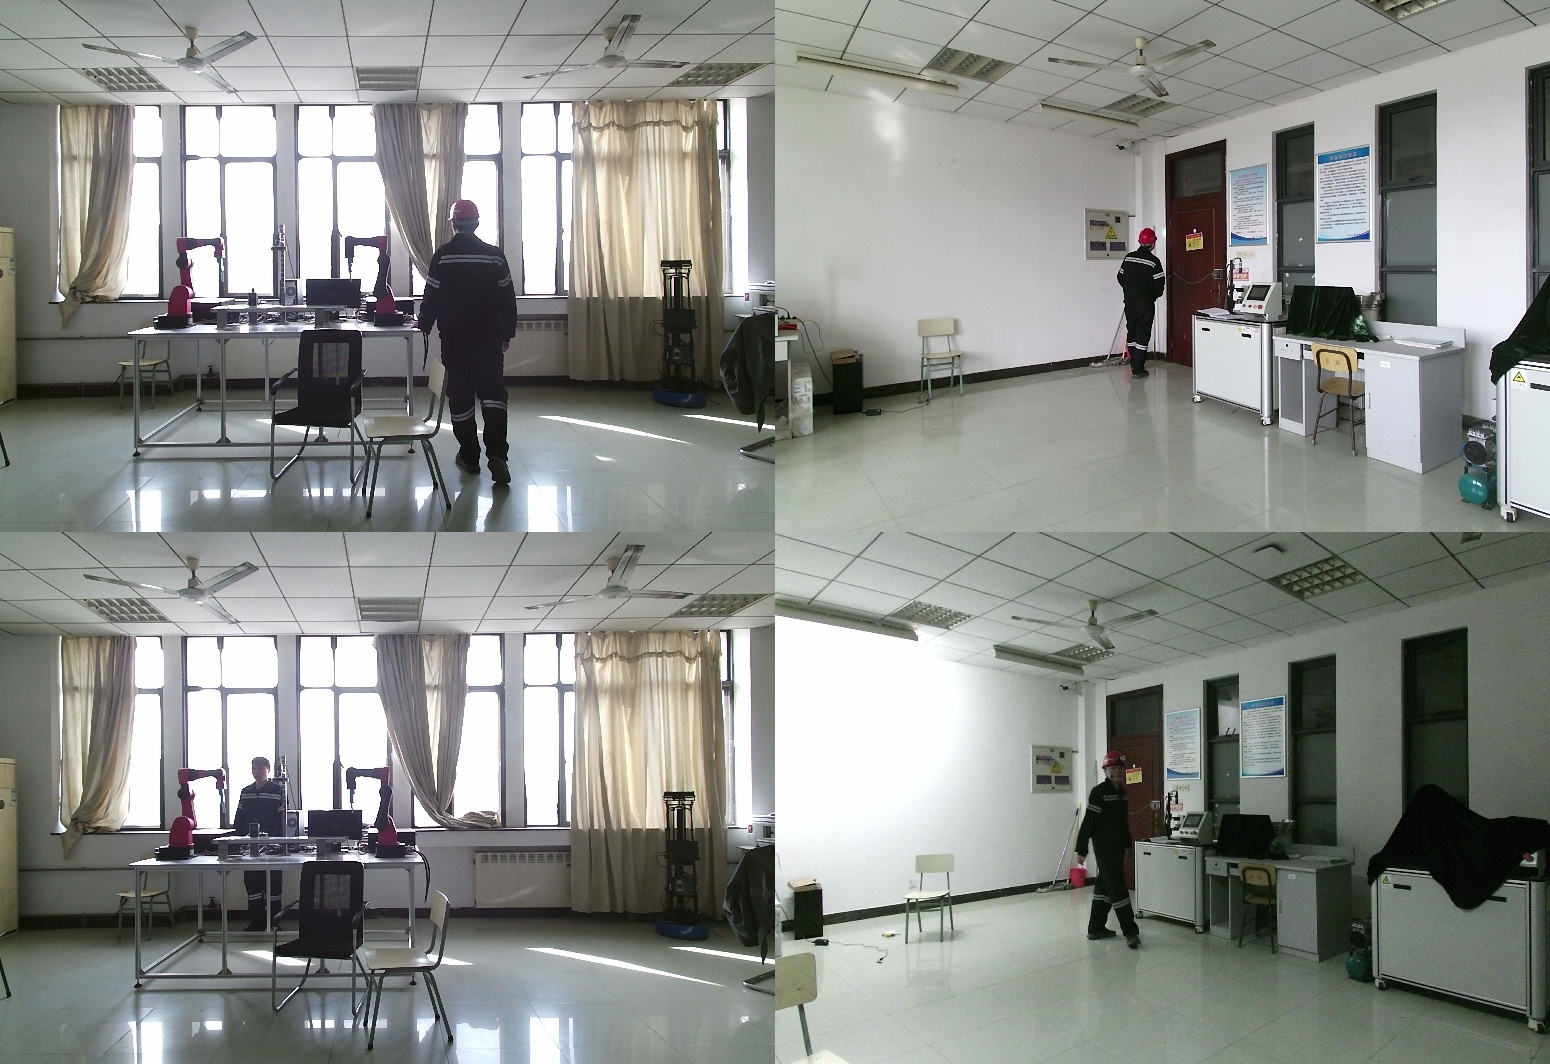person: (422, 200, 527, 514), (1075, 752, 1146, 952), (233, 758, 288, 941), (1116, 229, 1165, 380)
